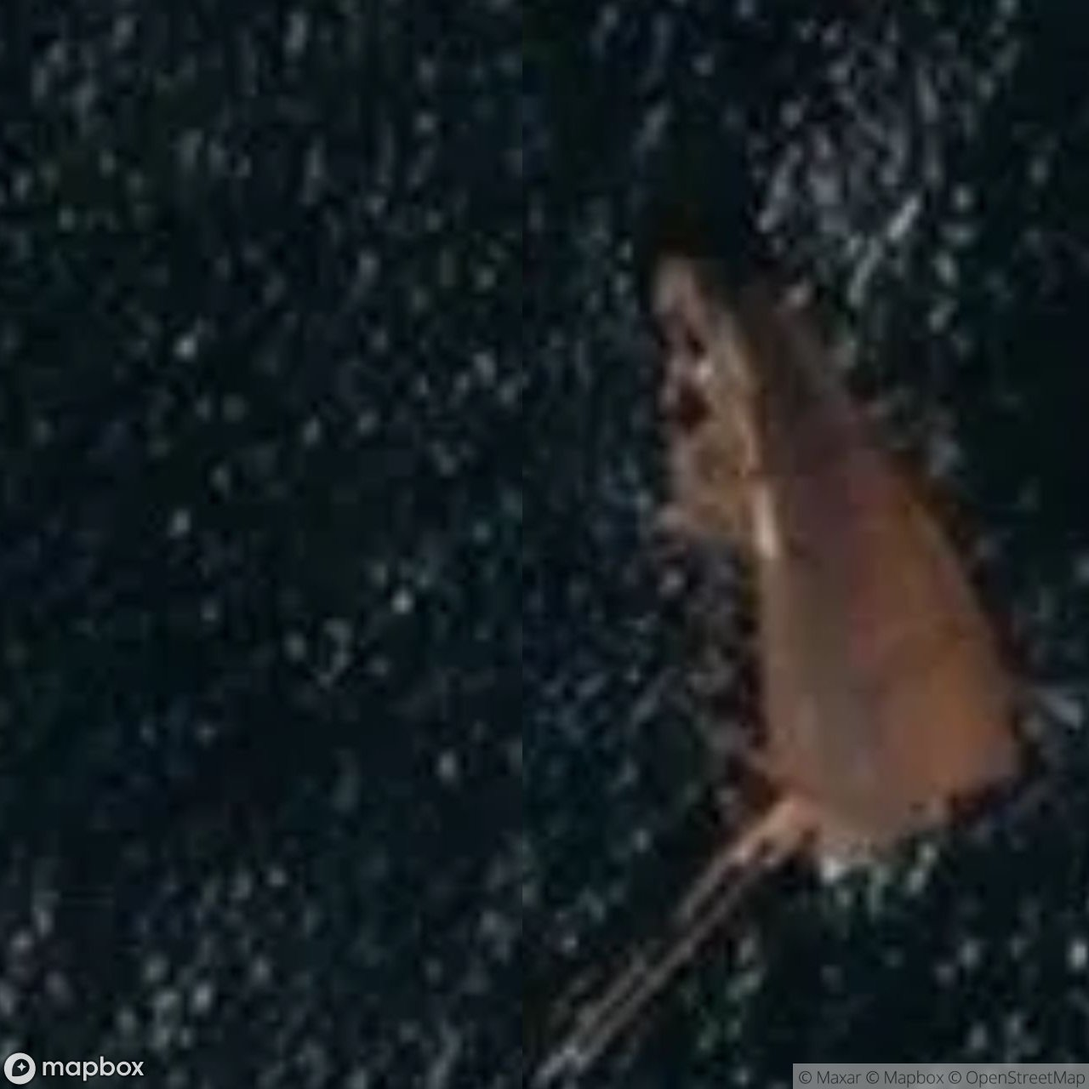Wreck: (556, 188, 1075, 914)
